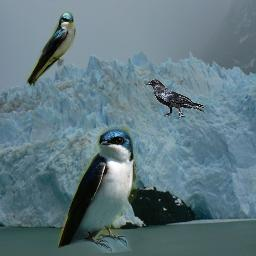Crow: (144, 79, 209, 118)
Swallow: (58, 127, 138, 253), (25, 11, 76, 89)
